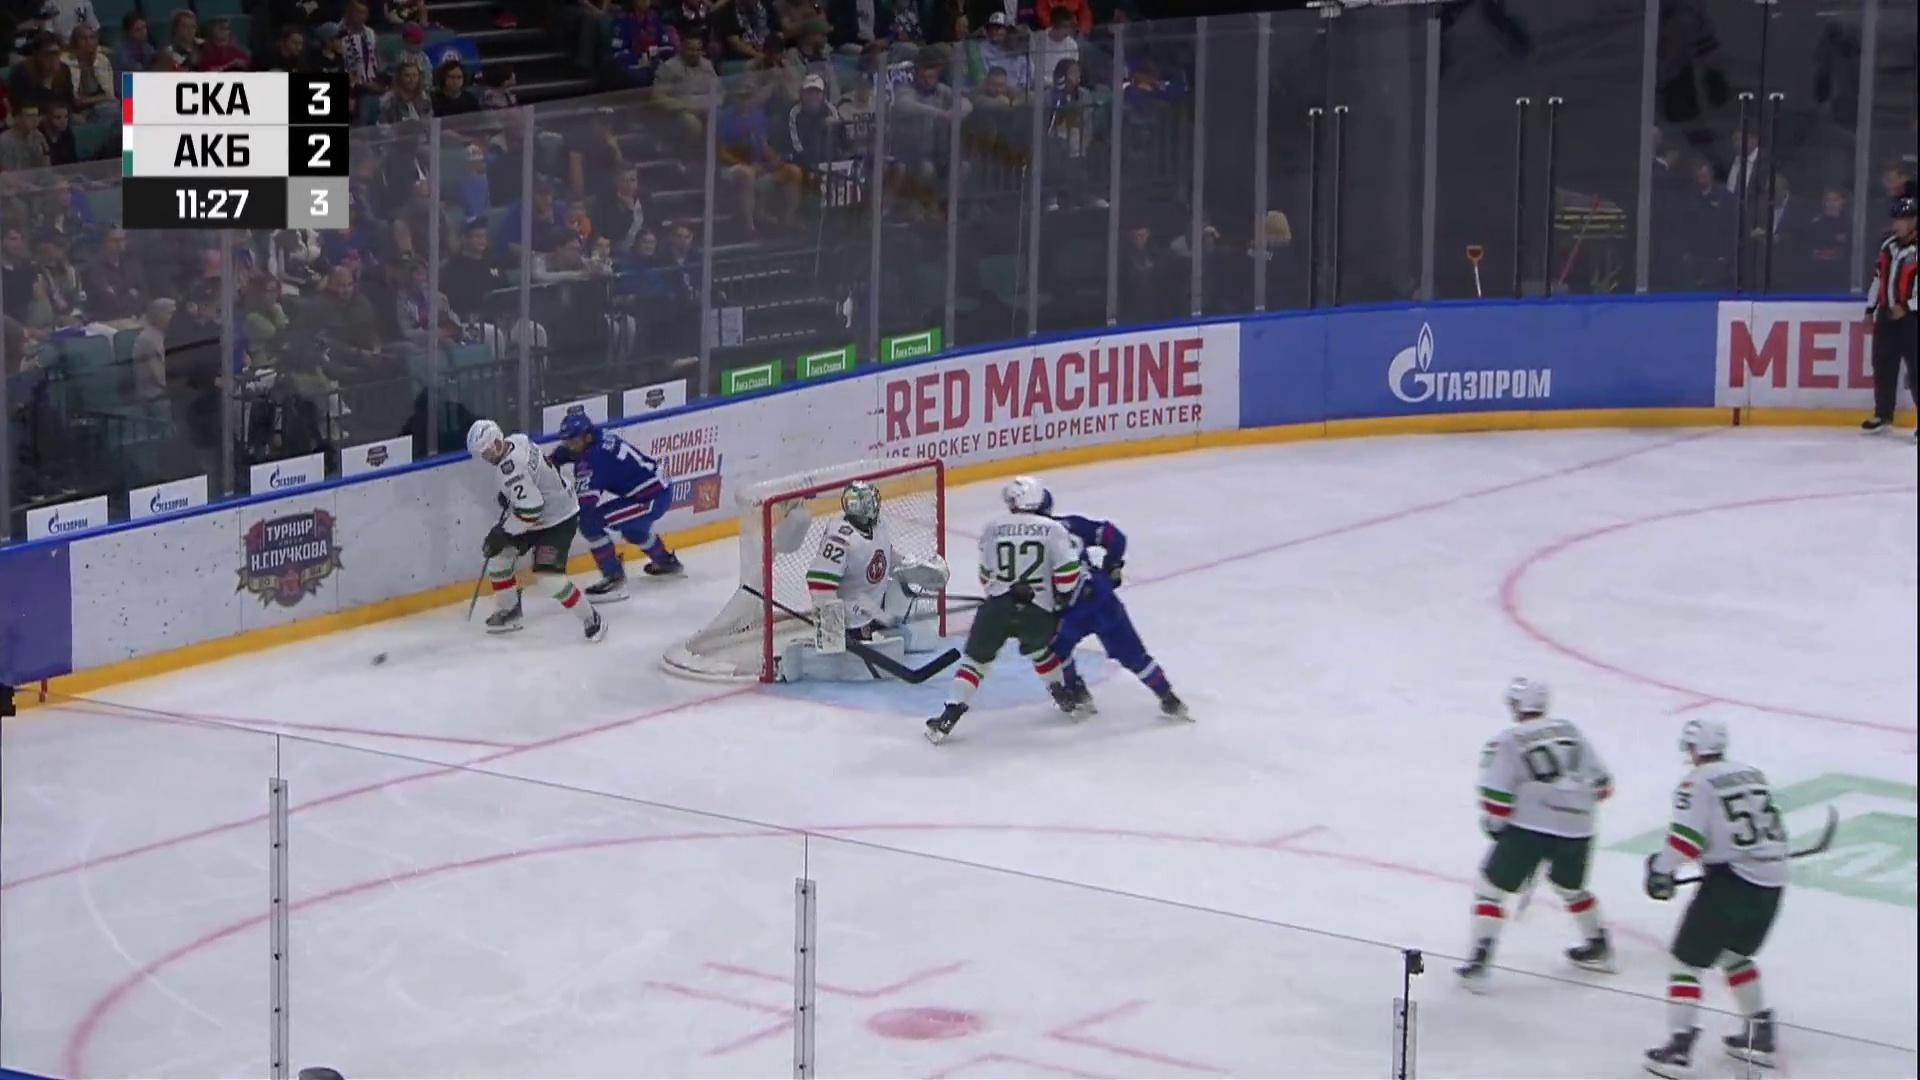ball: (373, 653, 389, 666)
